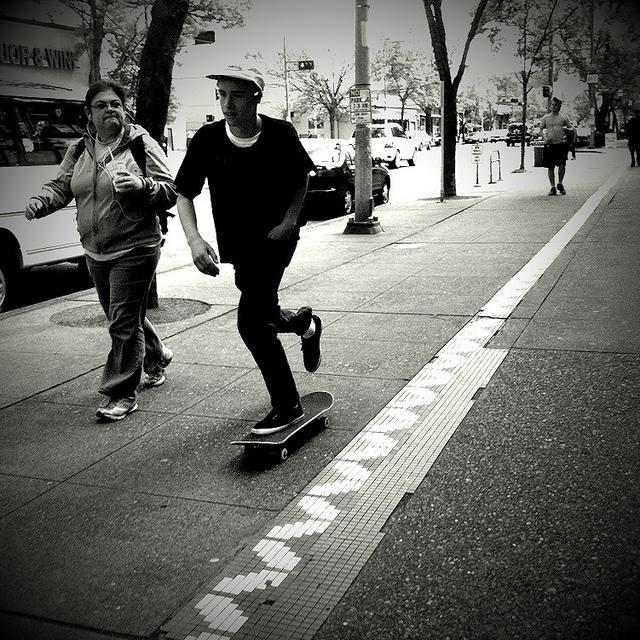bus: (0, 95, 84, 318)
car: (298, 138, 392, 214), (346, 120, 419, 166), (504, 124, 532, 147), (408, 130, 432, 152), (464, 133, 484, 143), (488, 135, 506, 144)
